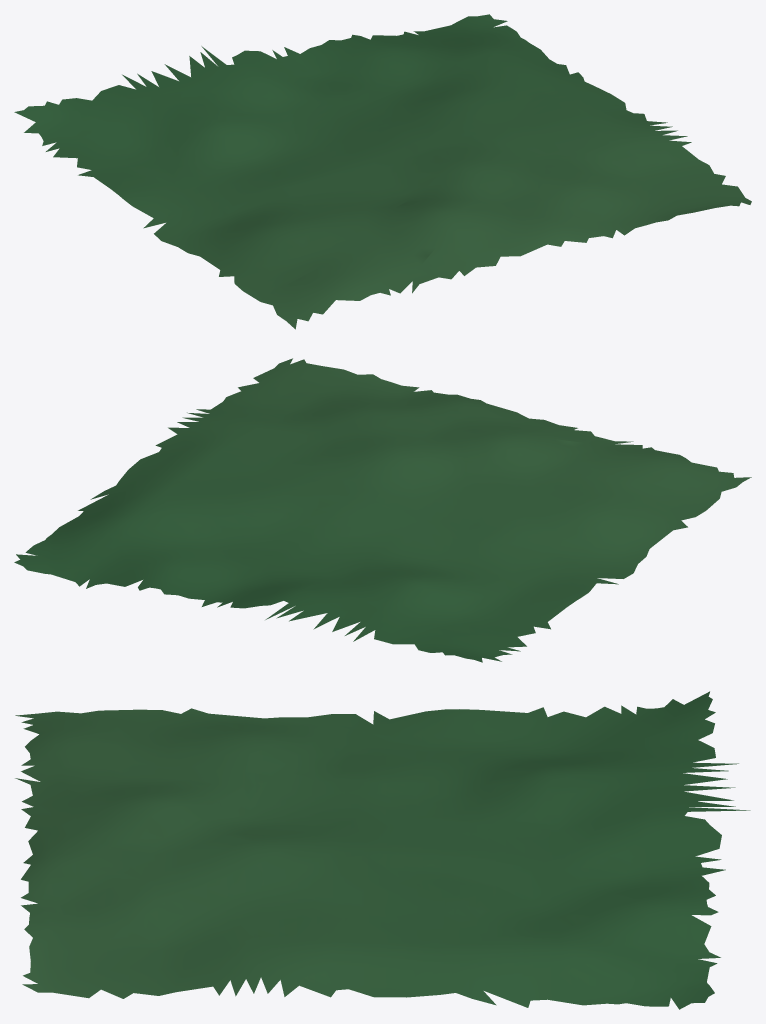
Rendered from payo_land_x3_y7.glb.
The picture shows the model from 3 angles, top to bottom: view 1: azimuth 30°, elevation 25°; view 2: azimuth 150°, elevation 25°; view 3: azimuth 270°, elevation 25°; orthographic projection. The views are drawn at different scales.
Parts seen in each view (by area): view 1: payo_land_x3_y7; view 2: payo_land_x3_y7; view 3: payo_land_x3_y7.
Part boxes in pixels (<box>): payo_land_x3_y7: <box>14,14,751,329</box>; payo_land_x3_y7: <box>14,358,751,662</box>; payo_land_x3_y7: <box>15,691,750,1009</box>.
Size of the model in its own units: 269 by 16.14 by 277.
